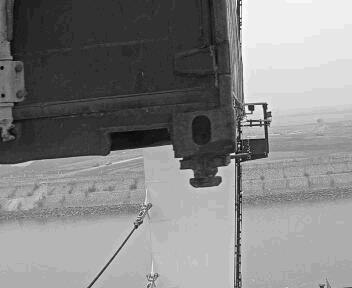twist_lock_1: (220, 144, 279, 192)
